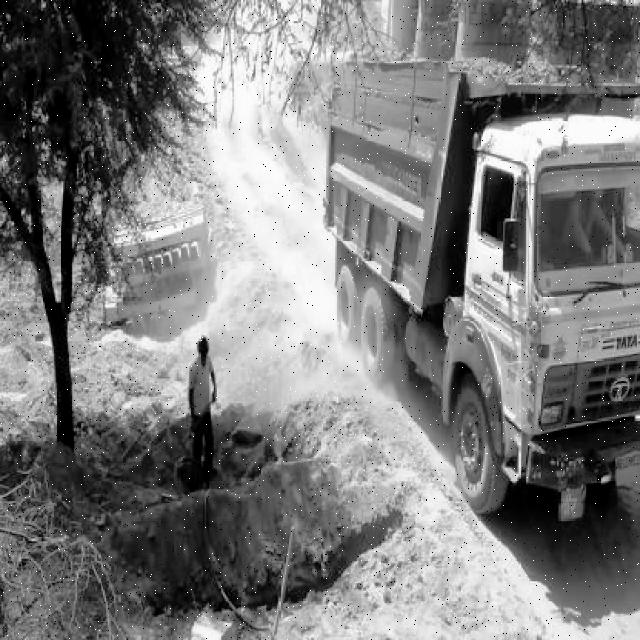HCV: (308, 63, 634, 482)
